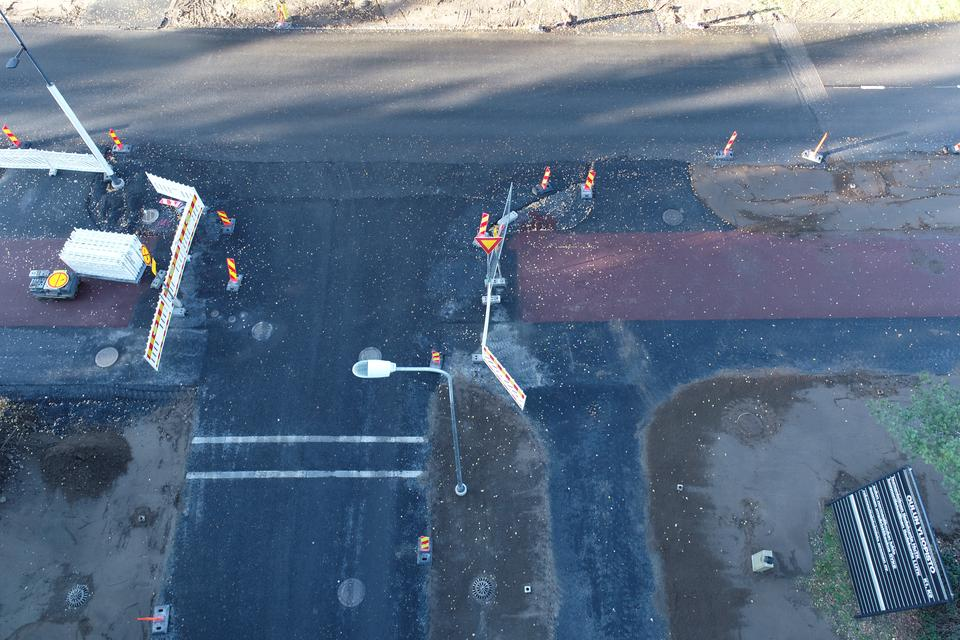intersection: (105, 5, 746, 476)
